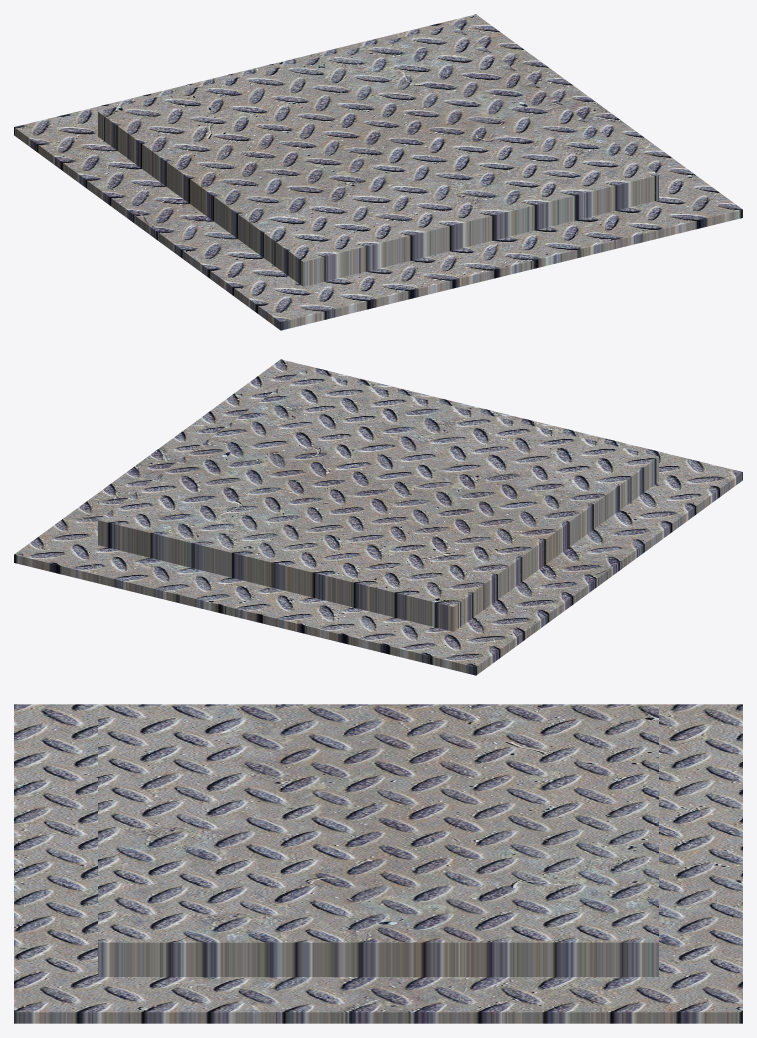
The model's file is pressurePlate.obj.
The picture shows the model from 3 angles, top to bottom: view 1: azimuth 30°, elevation 25°; view 2: azimuth 150°, elevation 25°; view 3: azimuth 270°, elevation 25°; orthographic projection. The views are drawn at different scales.
Parts seen in each view (by area): view 1: Plane; view 2: Plane; view 3: Plane.
Part boxes in pixels (bbox=[...]): Plane: bbox=[14, 14, 742, 330]; Plane: bbox=[14, 359, 742, 675]; Plane: bbox=[14, 704, 742, 1023].
Size of the model in its own units: 2 by 0.1375 by 2.
